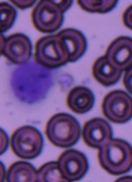L: (8, 58, 54, 105)
